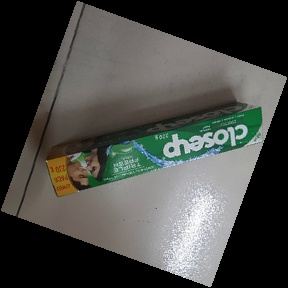CloseUp Xanh: (46, 100, 265, 200)
